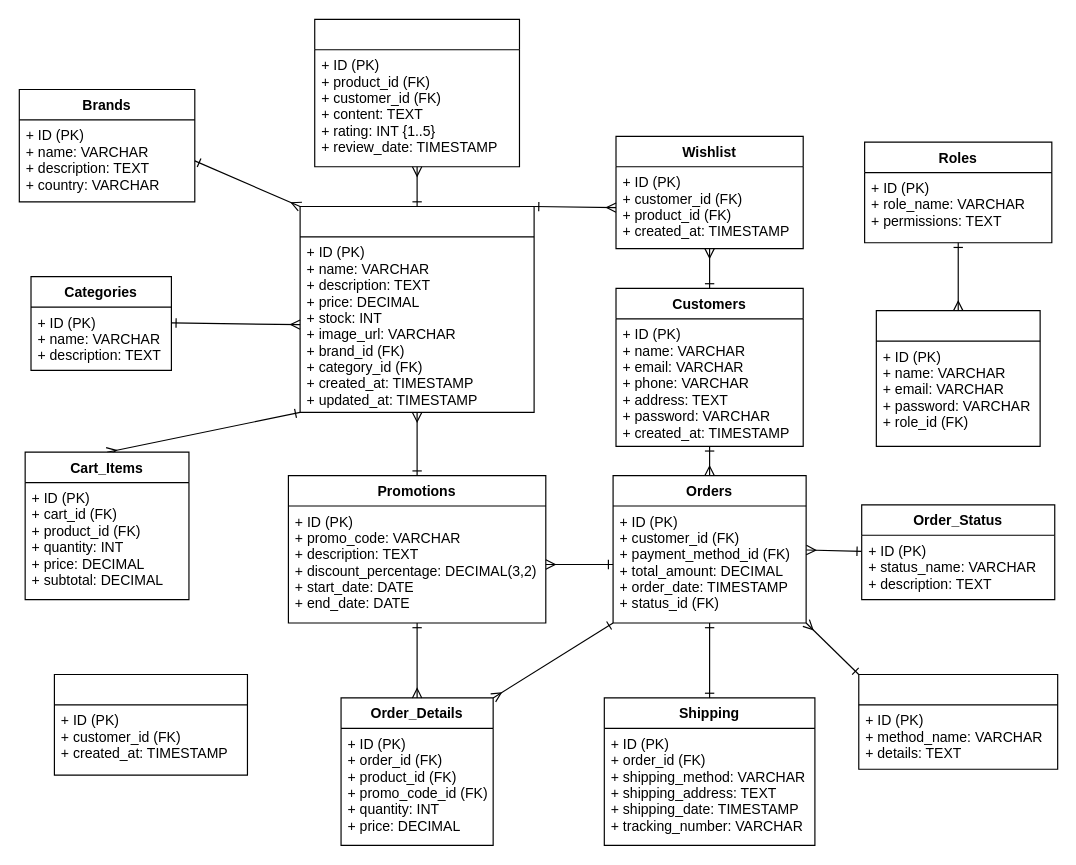
This 1076x865 diagram has some shape labels left out. The shapes that lost their labels are listed below. From the top down, each one's box as (x1, y1, x2, y2) in pixels, then its label:
(314, 18, 519, 167): Reviews
(299, 205, 534, 412): Products
(875, 309, 1040, 446): Admins
(53, 673, 247, 775): Cart
(858, 673, 1058, 769): Payment_Methods
